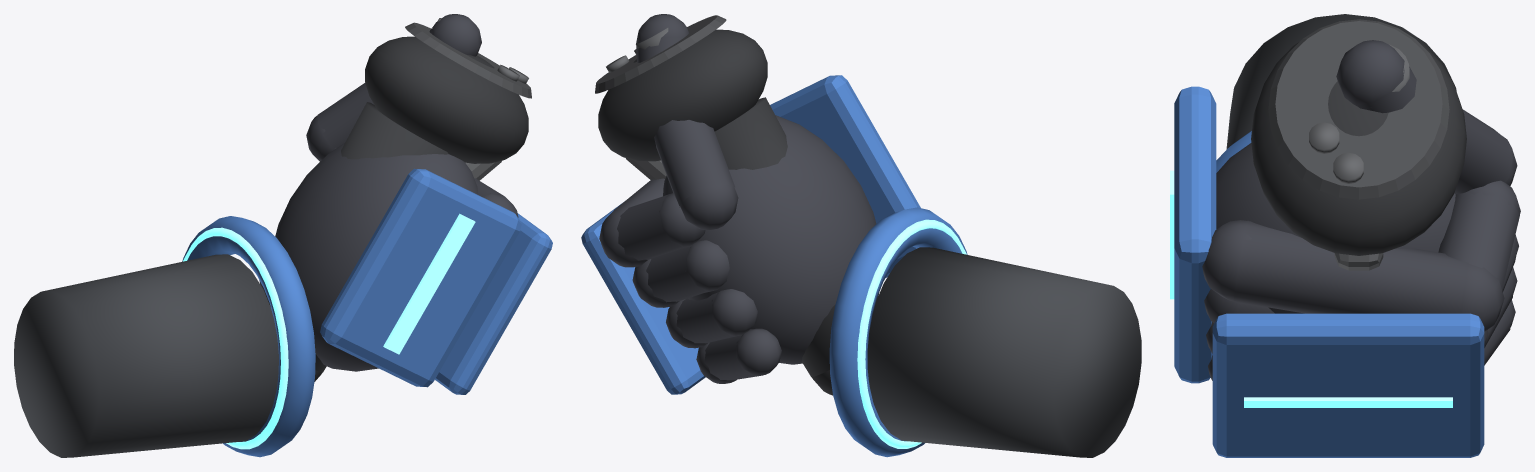
The model's file is P04_lancer.glb.
3 views of the same model, side by side, from view 1: azimuth 30°, elevation 25°; view 2: azimuth 150°, elevation 25°; view 3: azimuth 270°, elevation 25° (orthographic). The views are drawn at different scales.
Visible parts, largest first — view 1: lancer; view 2: lancer; view 3: lancer.
Boxes of the visible parts, x1,y1,x2,y2 form: lancer: (14, 14, 552, 457); lancer: (581, 14, 1141, 457); lancer: (1170, 14, 1520, 457).
Bounding box in the file's own units: 0.2156 × 0.1588 × 0.1007.
